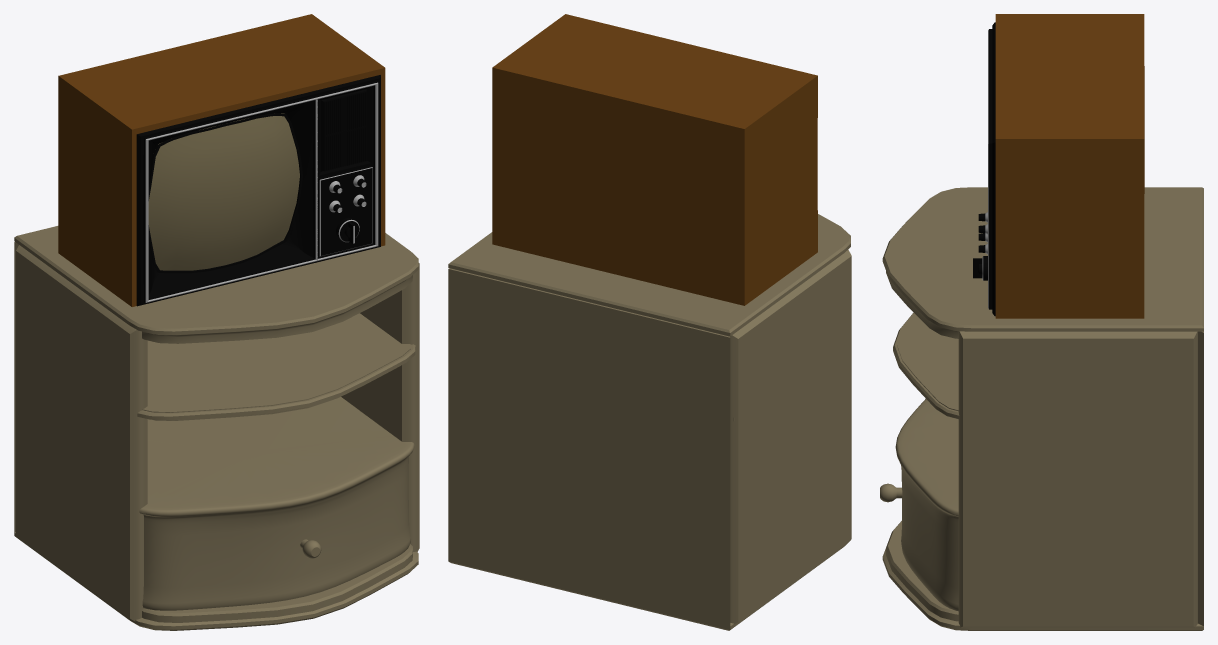
The model's file is teler.fbx.
3 views of the same model, side by side, from view 1: azimuth 30°, elevation 25°; view 2: azimuth 150°, elevation 25°; view 3: azimuth 270°, elevation 25° (orthographic).
Parts seen in each view (by area): view 1: Cube.005; view 2: Cube.005; view 3: Cube.005.
Part boxes in pixels (box(x1,y1,x2,y2)): Cube.005: box(14, 14, 419, 630); Cube.005: box(448, 14, 851, 630); Cube.005: box(880, 14, 1203, 630).
Size of the model in its own units: 194 by 307 by 185.
